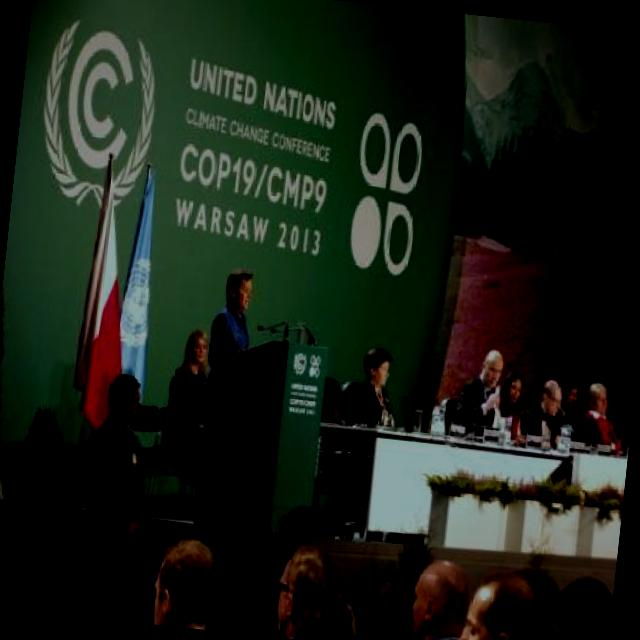Person: (65, 368, 164, 622), (160, 324, 214, 452), (452, 343, 509, 436), (206, 266, 257, 362), (349, 344, 398, 426), (574, 376, 626, 452), (520, 376, 570, 446), (496, 366, 528, 438)
